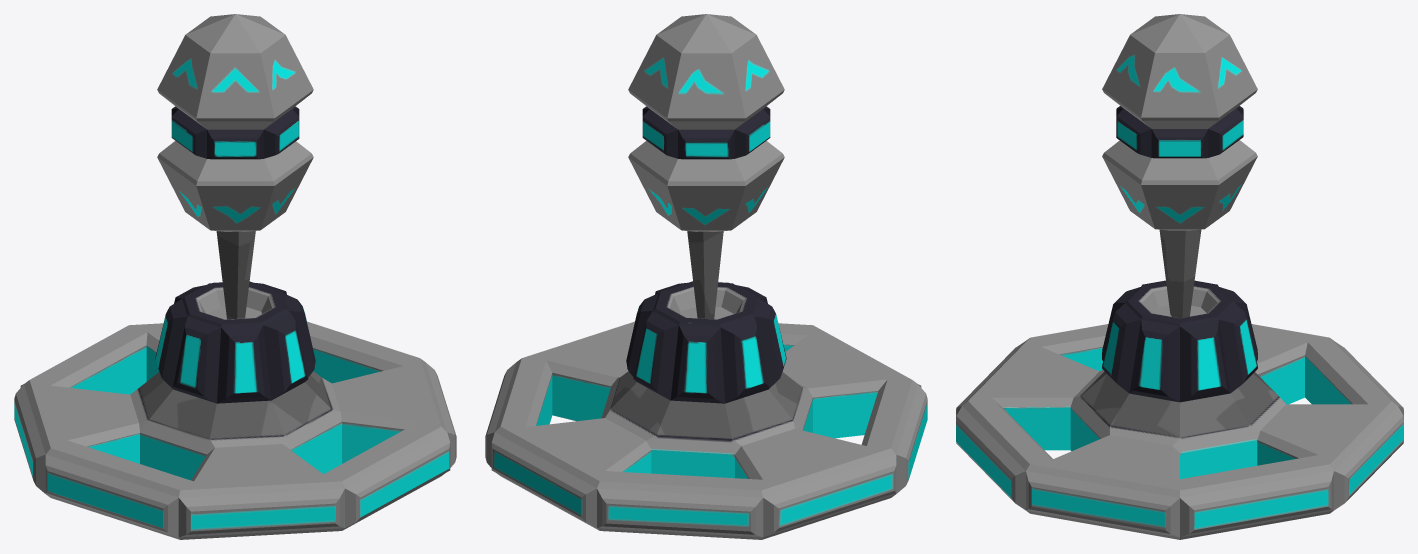
The model's file is SM_Props_10.fbx.
3 renders of one model, left to right at view 1: azimuth 30°, elevation 25°; view 2: azimuth 150°, elevation 25°; view 3: azimuth 270°, elevation 25°, orthographic.
Parts seen in each view (by area): view 1: SM_Props_10; view 2: SM_Props_10; view 3: SM_Props_10.
Boxes of the visible parts, x1,y1,x2,y2 form: SM_Props_10: [14, 14, 456, 539]; SM_Props_10: [485, 14, 927, 539]; SM_Props_10: [956, 14, 1403, 539].
Size of the model in its own units: 122 by 122 by 131.
